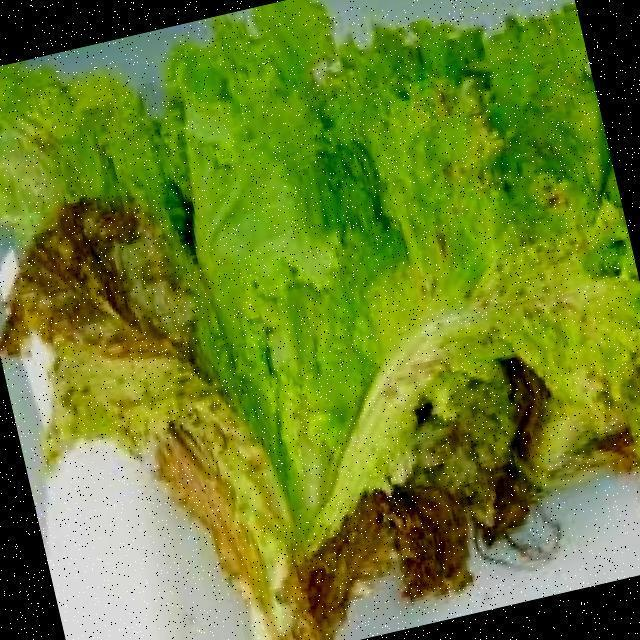Septoria_Blight_on_lettuce: (8, 40, 624, 428)
